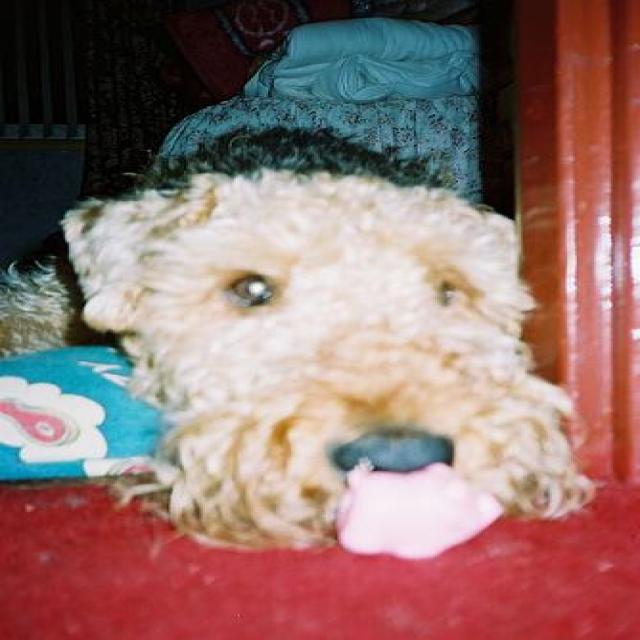airedale: (2, 123, 596, 559)
